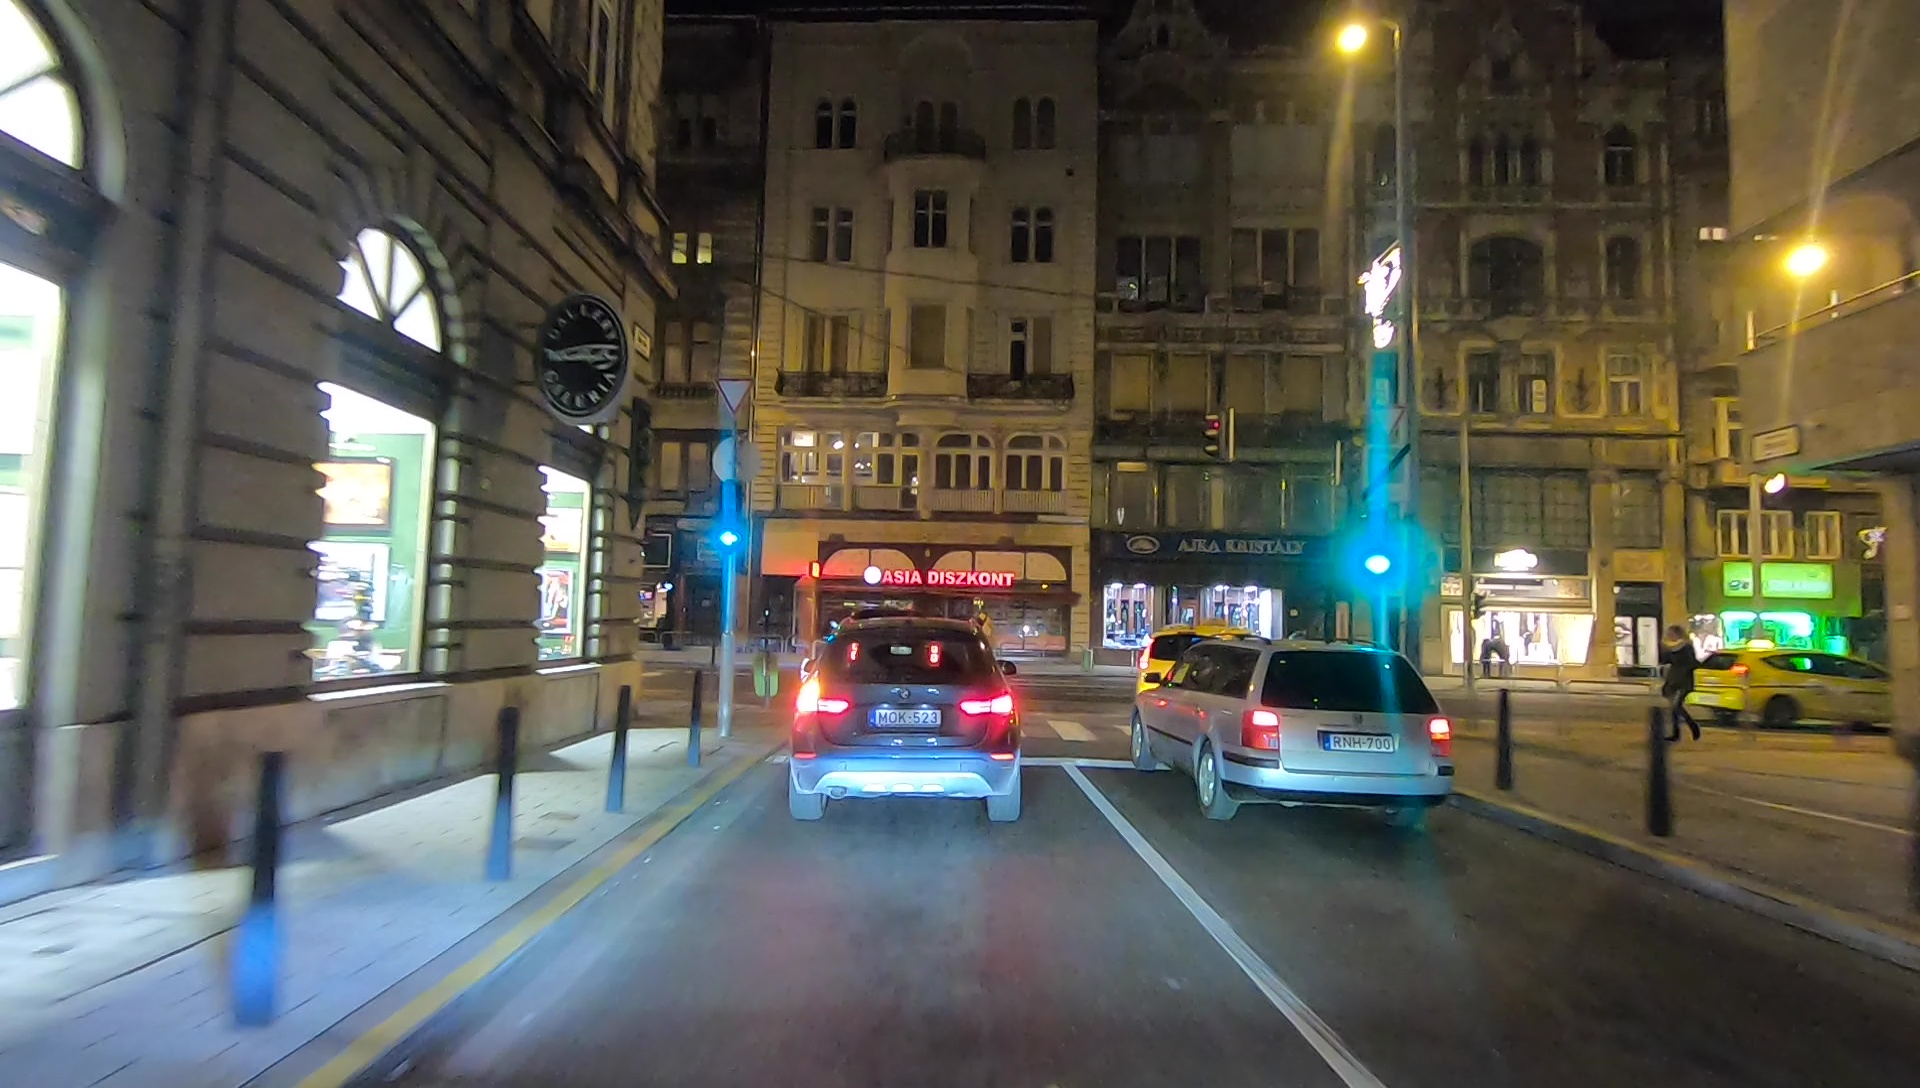person: (1662, 624, 1701, 745)
